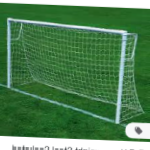goals: (4, 17, 145, 127)
